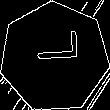L_W: (29, 41, 80, 74)
